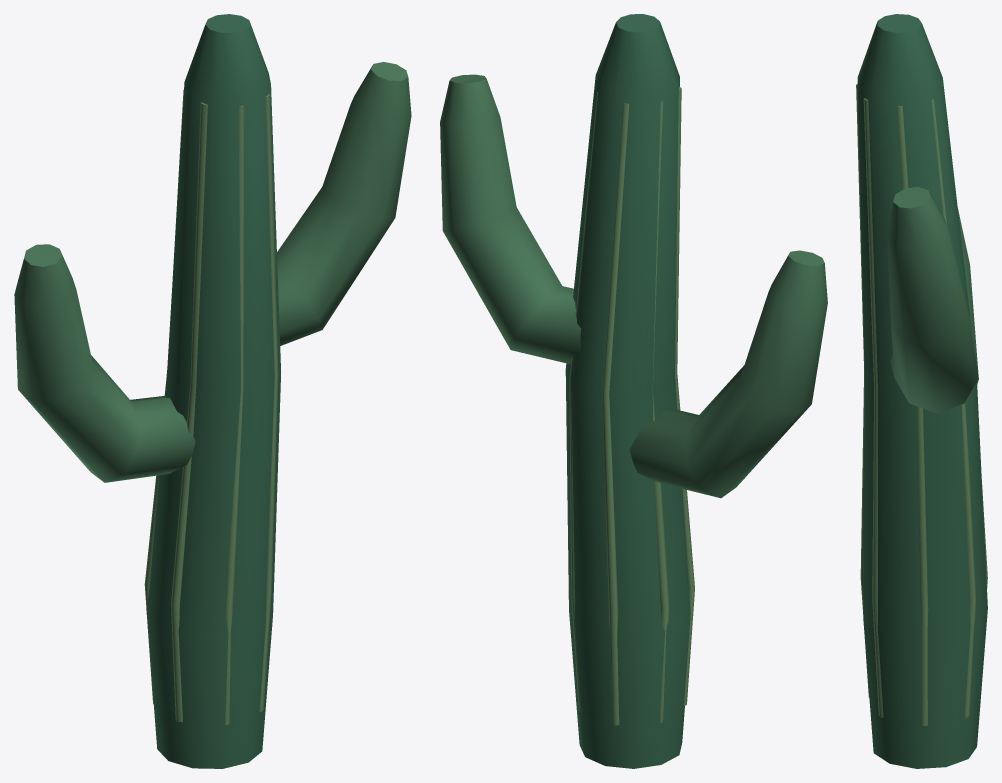
File: saguaro.glb
3 views of the same model, side by side, from view 1: azimuth 30°, elevation 25°; view 2: azimuth 150°, elevation 25°; view 3: azimuth 270°, elevation 25° (orthographic). The views are drawn at different scales.
Visible parts, largest first — view 1: Saguaro; view 2: Saguaro; view 3: Saguaro.
Part boxes in pixels (x1,y1,x2,y2): Saguaro: [14, 14, 411, 768]; Saguaro: [440, 14, 827, 768]; Saguaro: [856, 14, 987, 768].
Size of the model in its own units: 1.43 by 2.58 by 0.4247.
